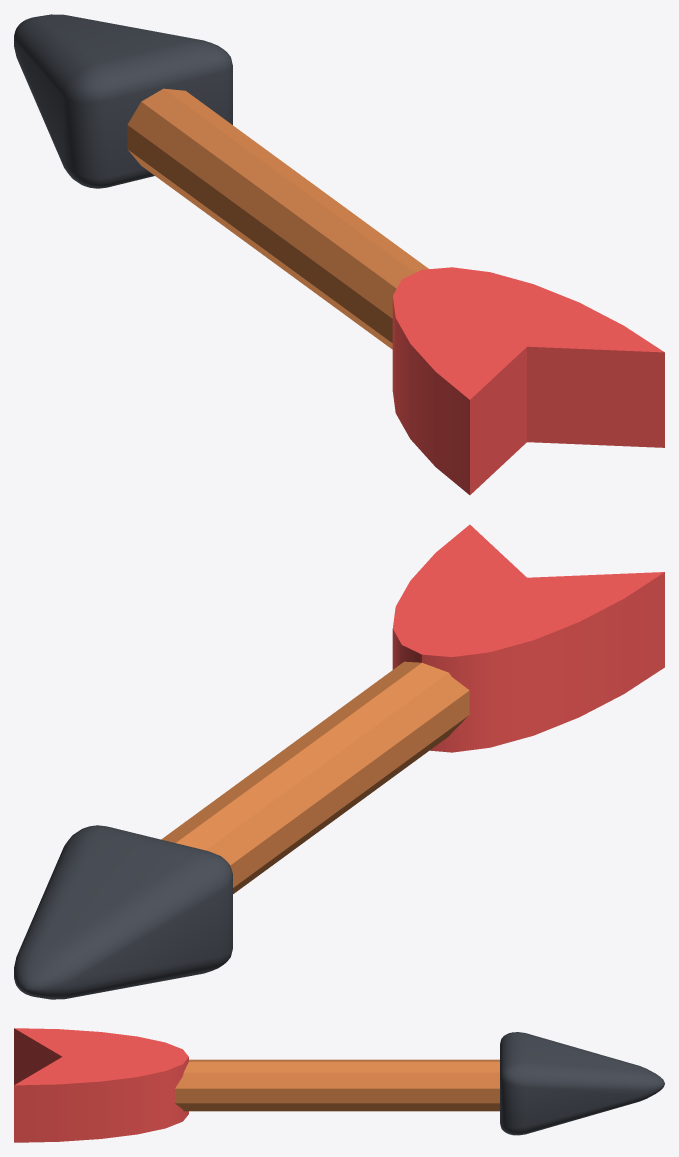
File: Arrow.fbx
3 views of the same model, one above another, from view 1: azimuth 30°, elevation 25°; view 2: azimuth 150°, elevation 25°; view 3: azimuth 270°, elevation 25° (orthographic). The views are drawn at different scales.
Visible parts, largest first — view 1: Arrow; view 2: Arrow; view 3: Arrow.
Boxes of the visible parts, <box> form: Arrow: <box>14,14,664,494</box>; Arrow: <box>14,524,664,999</box>; Arrow: <box>14,1028,664,1142</box>.
Bounding box in the file's own units: 50.68 × 29.03 × 244.
